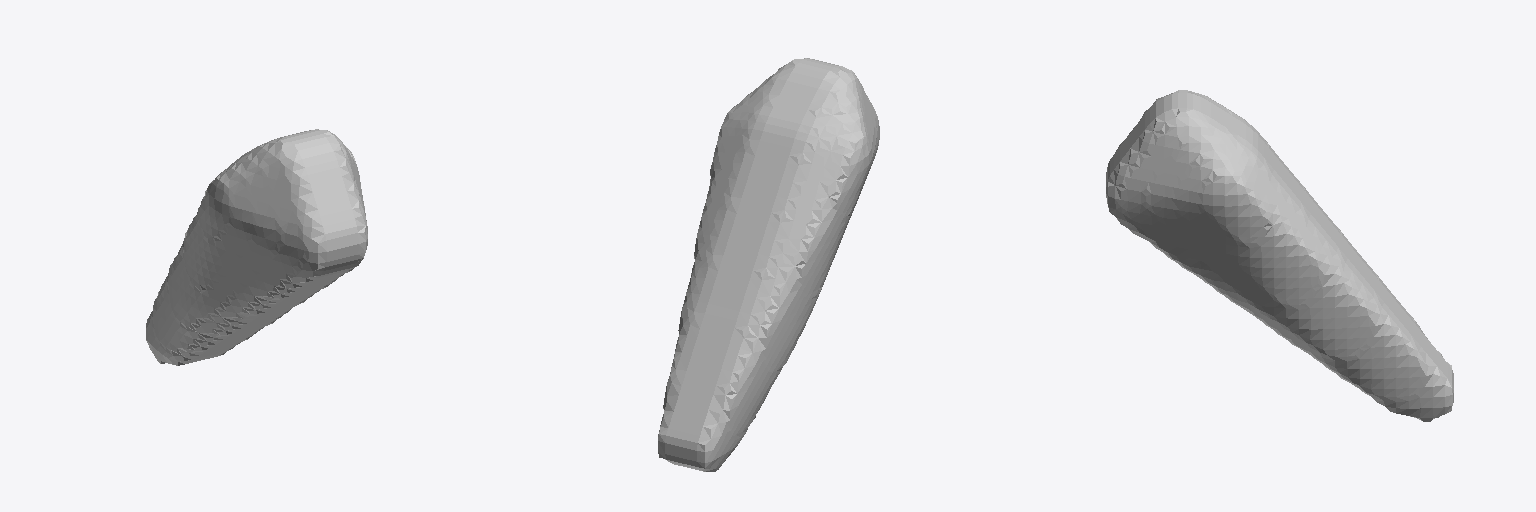
File: right_outer_knuckle_collisions_mesh_0.obj
3 views of the same model, side by side, from view 1: azimuth 30°, elevation 25°; view 2: azimuth 150°, elevation 25°; view 3: azimuth 270°, elevation 25° (orthographic).
Parts seen in each view (by area): view 1: right_outer_knuckle_collisions_mesh_0; view 2: right_outer_knuckle_collisions_mesh_0; view 3: right_outer_knuckle_collisions_mesh_0.
Boxes of the visible parts, x1,y1,x2,y2 form: right_outer_knuckle_collisions_mesh_0: [146, 129, 367, 365]; right_outer_knuckle_collisions_mesh_0: [658, 58, 879, 471]; right_outer_knuckle_collisions_mesh_0: [1106, 90, 1453, 421].
Bounding box in the file's own units: 0.024 × 0.0518 × 0.0527.